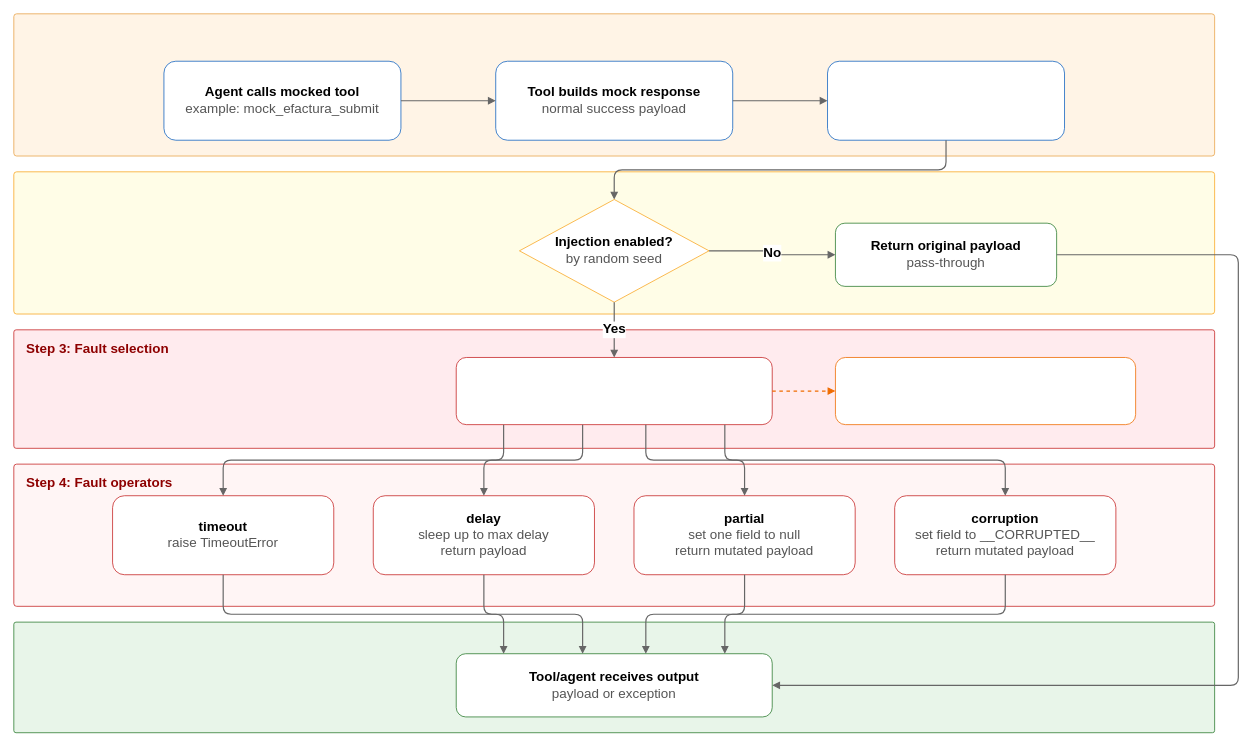
The diagram is 1259 pixels wide and 747 high, and some of its shapes have lost their labels. Here are the shapes that lost their labels. From the top down, the box of each, then its label:
(13, 13, 1215, 156): Step 1: Entry
(827, 60, 1065, 140): fault_injector.inject (operation, payload)
(13, 171, 1215, 314): Step 2: Decision
(455, 357, 772, 425): Pick operator timeout | delay | partial | corruption
(835, 357, 1136, 425): Write warning log L3 fault injected | op=... | type=...
(13, 621, 1215, 733): Step 5: Output
